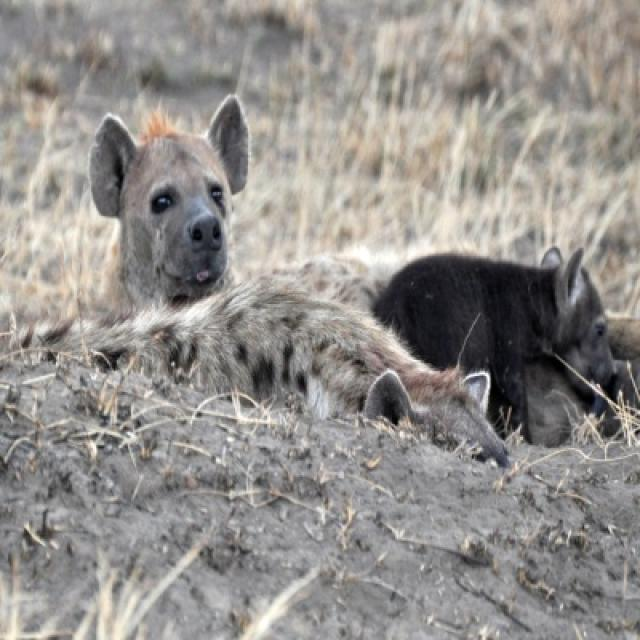hyena: (18, 98, 402, 345), (51, 294, 521, 464), (375, 253, 638, 441)
